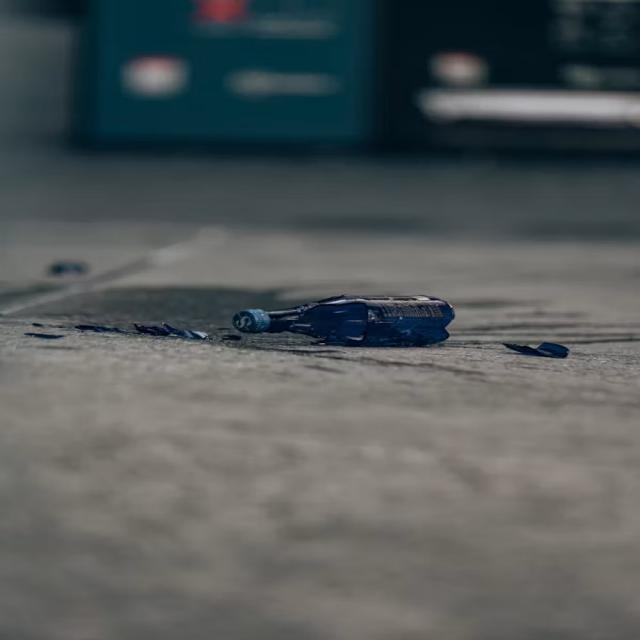Bottle: (233, 296, 454, 346)
